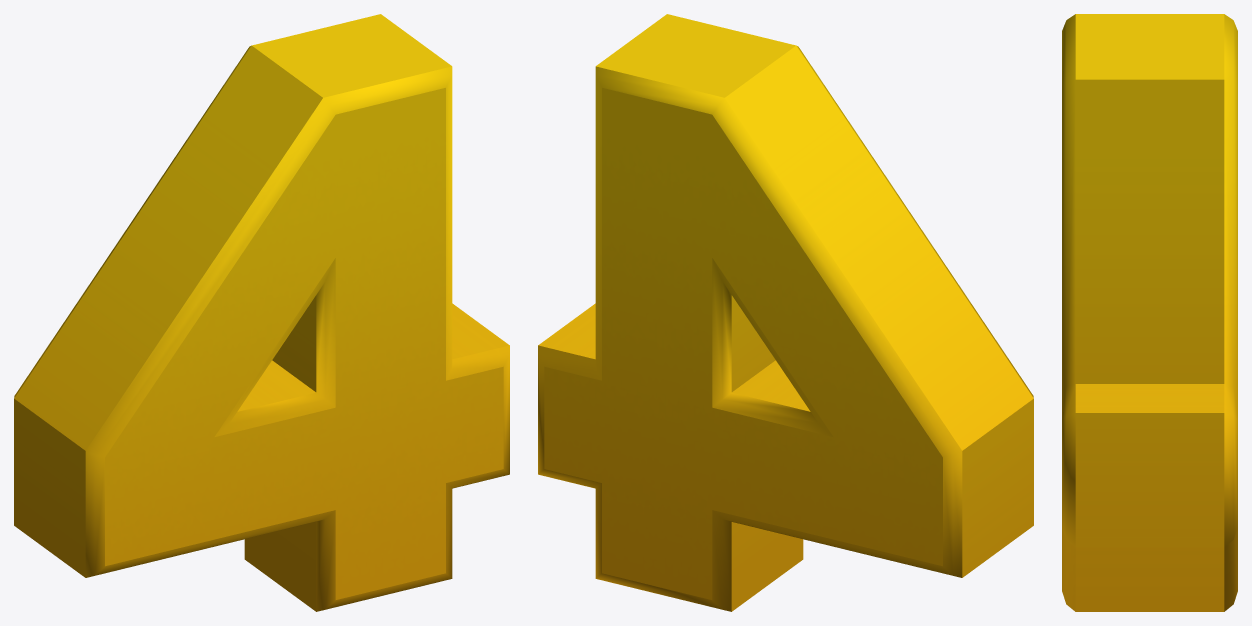
3 renders of one model, left to right at view 1: azimuth 30°, elevation 25°; view 2: azimuth 150°, elevation 25°; view 3: azimuth 270°, elevation 25°, orthographic. The views are drawn at different scales.
Parts seen in each view (by area): view 1: 003-4; view 2: 003-4; view 3: 003-4.
Part boxes in pixels (<box>): 003-4: <box>14,14,509,611</box>; 003-4: <box>538,14,1033,611</box>; 003-4: <box>1062,14,1237,611</box>.
Bounding box in the file's own units: 7.29 × 8.42 × 2.52.
